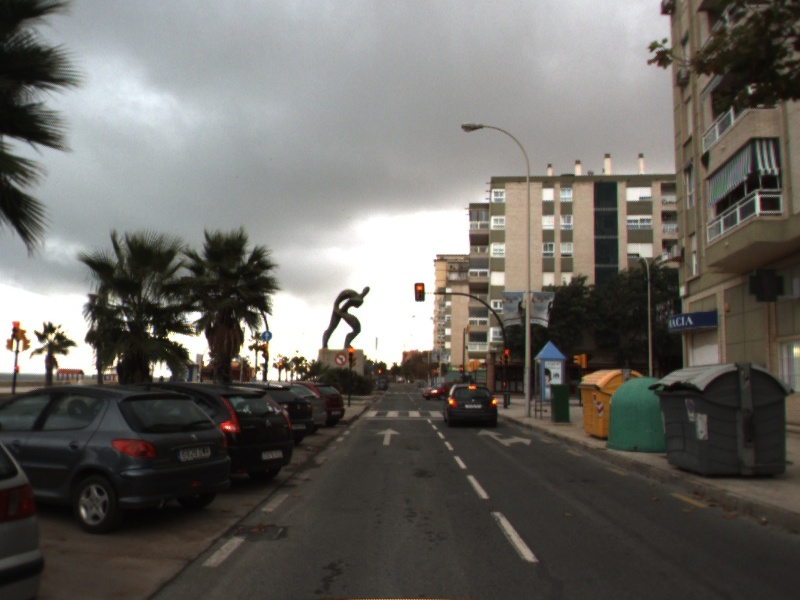STRAIGHT: (375, 426, 403, 447)
STRAIGHT_RIGHT: (476, 427, 533, 448)
